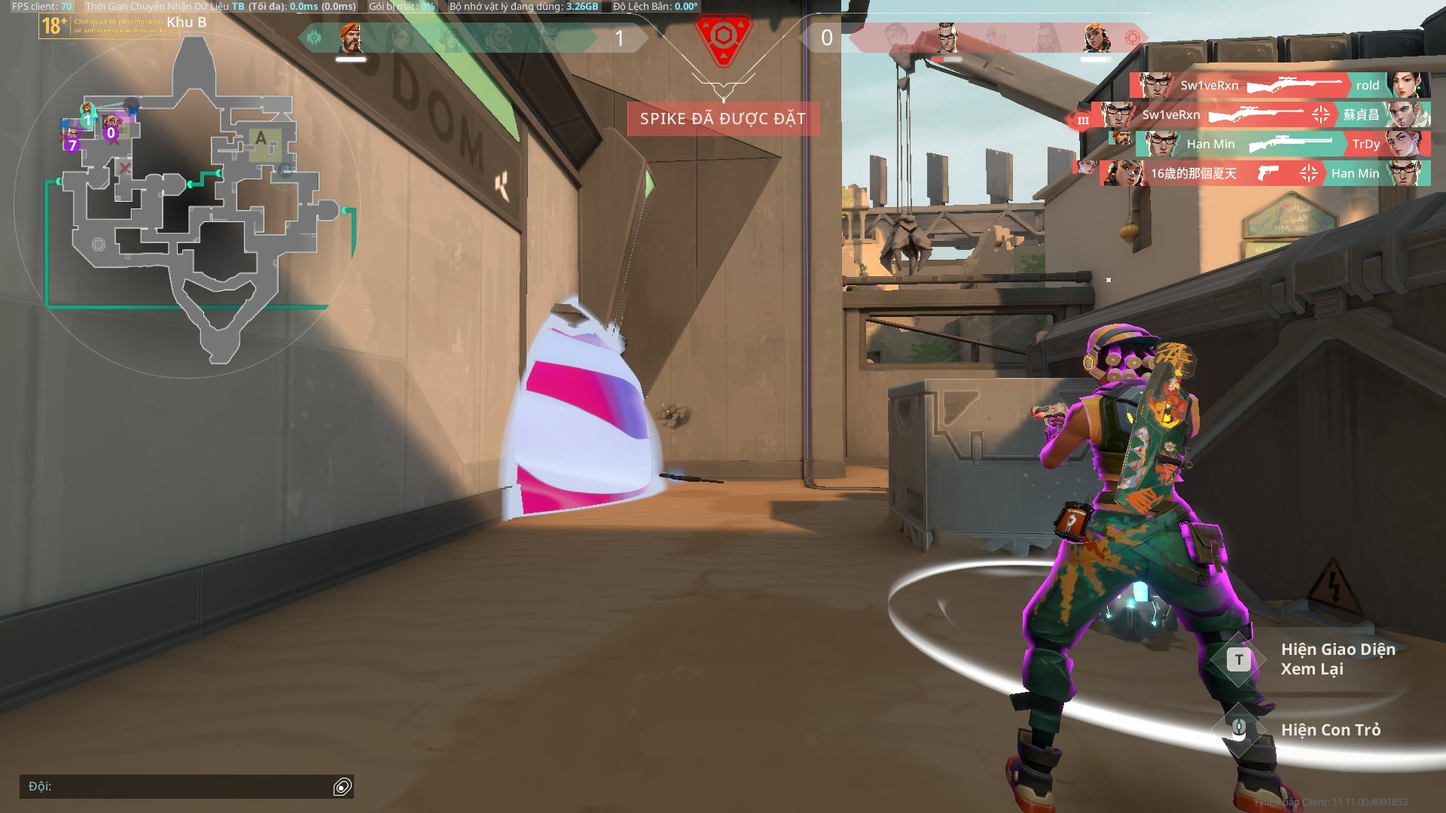body: (1070, 372, 1213, 521)
head: (1085, 322, 1164, 379)
